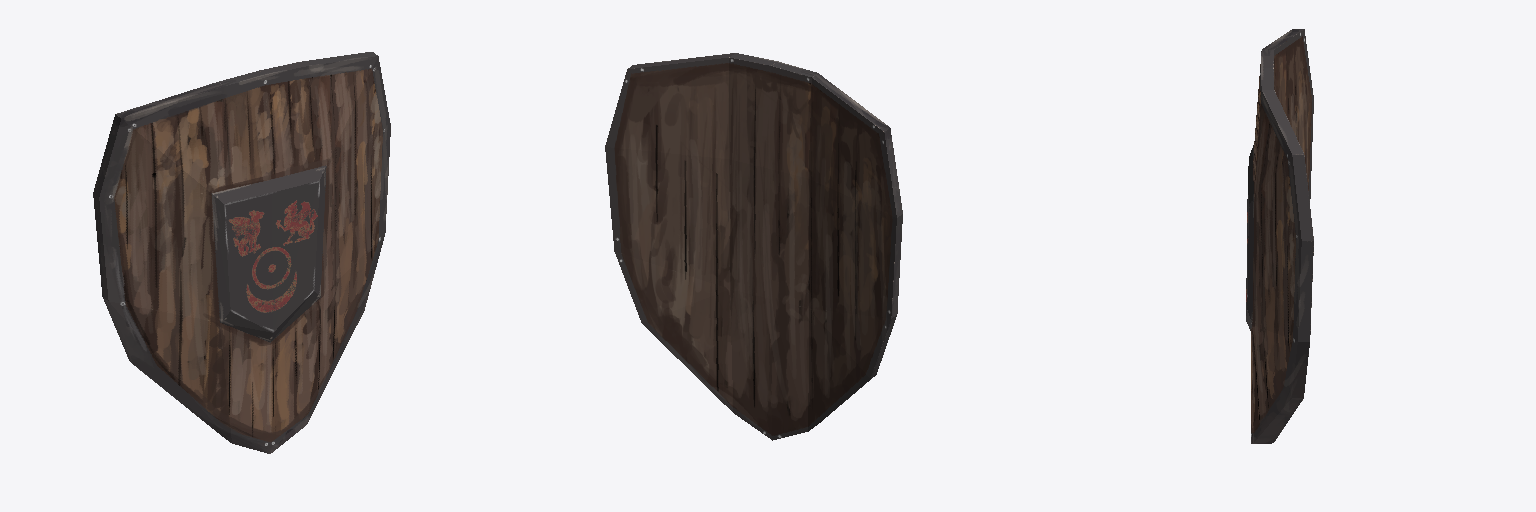
3 renders of one model, left to right at view 1: azimuth 30°, elevation 25°; view 2: azimuth 150°, elevation 25°; view 3: azimuth 270°, elevation 25°, orthographic.
Parts seen in each view (by area): view 1: polySurface1; view 2: polySurface1; view 3: polySurface1.
Boxes of the visible parts, x1=… form: polySurface1: x1=93, y1=52, x2=390, y2=453; polySurface1: x1=605, y1=53, x2=902, y2=440; polySurface1: x1=1246, y1=29, x2=1313, y2=443.
Bounding box in the file's own units: 10.83 × 13.32 × 2.19.
1 materials, 1 textured.